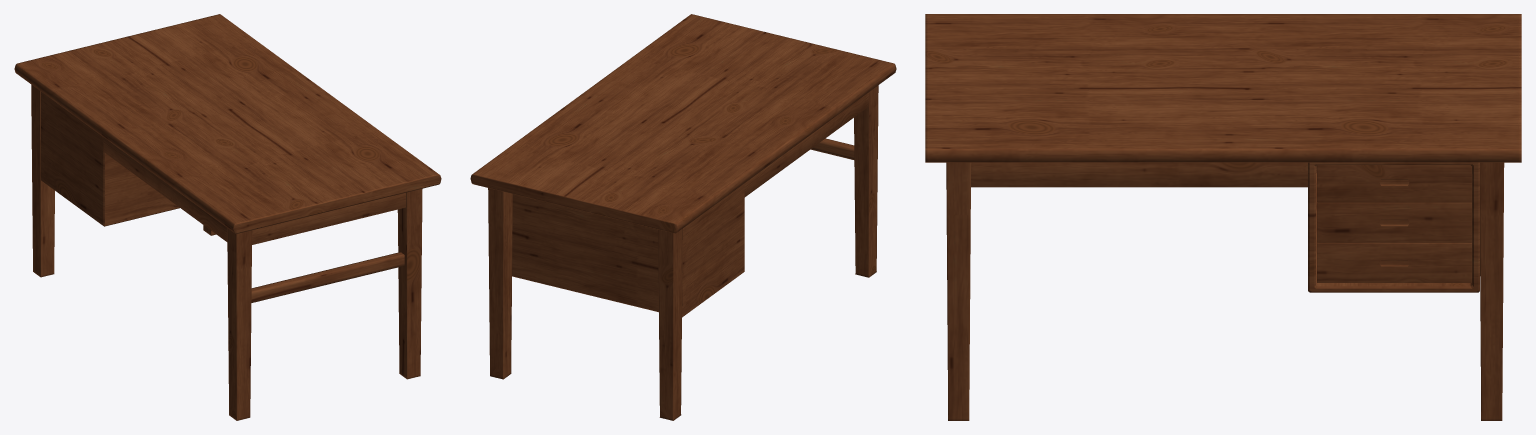
The model's file is MesaMaderADN.fbx.
3 views of the same model, side by side, from view 1: azimuth 30°, elevation 25°; view 2: azimuth 150°, elevation 25°; view 3: azimuth 270°, elevation 25° (orthographic). The views are drawn at different scales.
Visible parts, largest first — view 1: Object_2; view 2: Object_2; view 3: Object_2.
Boxes of the visible parts, <box> form: Object_2: <box>14,14,441,420</box>; Object_2: <box>470,14,896,420</box>; Object_2: <box>925,14,1521,420</box>.
Bounding box in the file's own units: 71.62 × 67.56 × 131.
